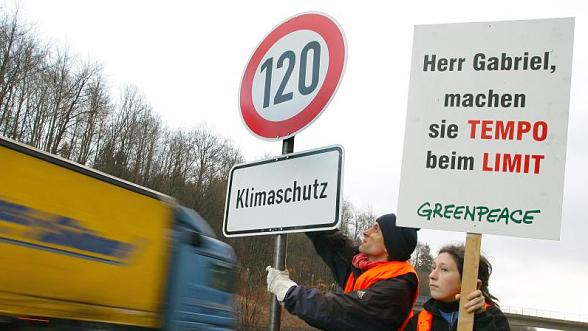Speed_limit_120km: (238, 10, 351, 140)
